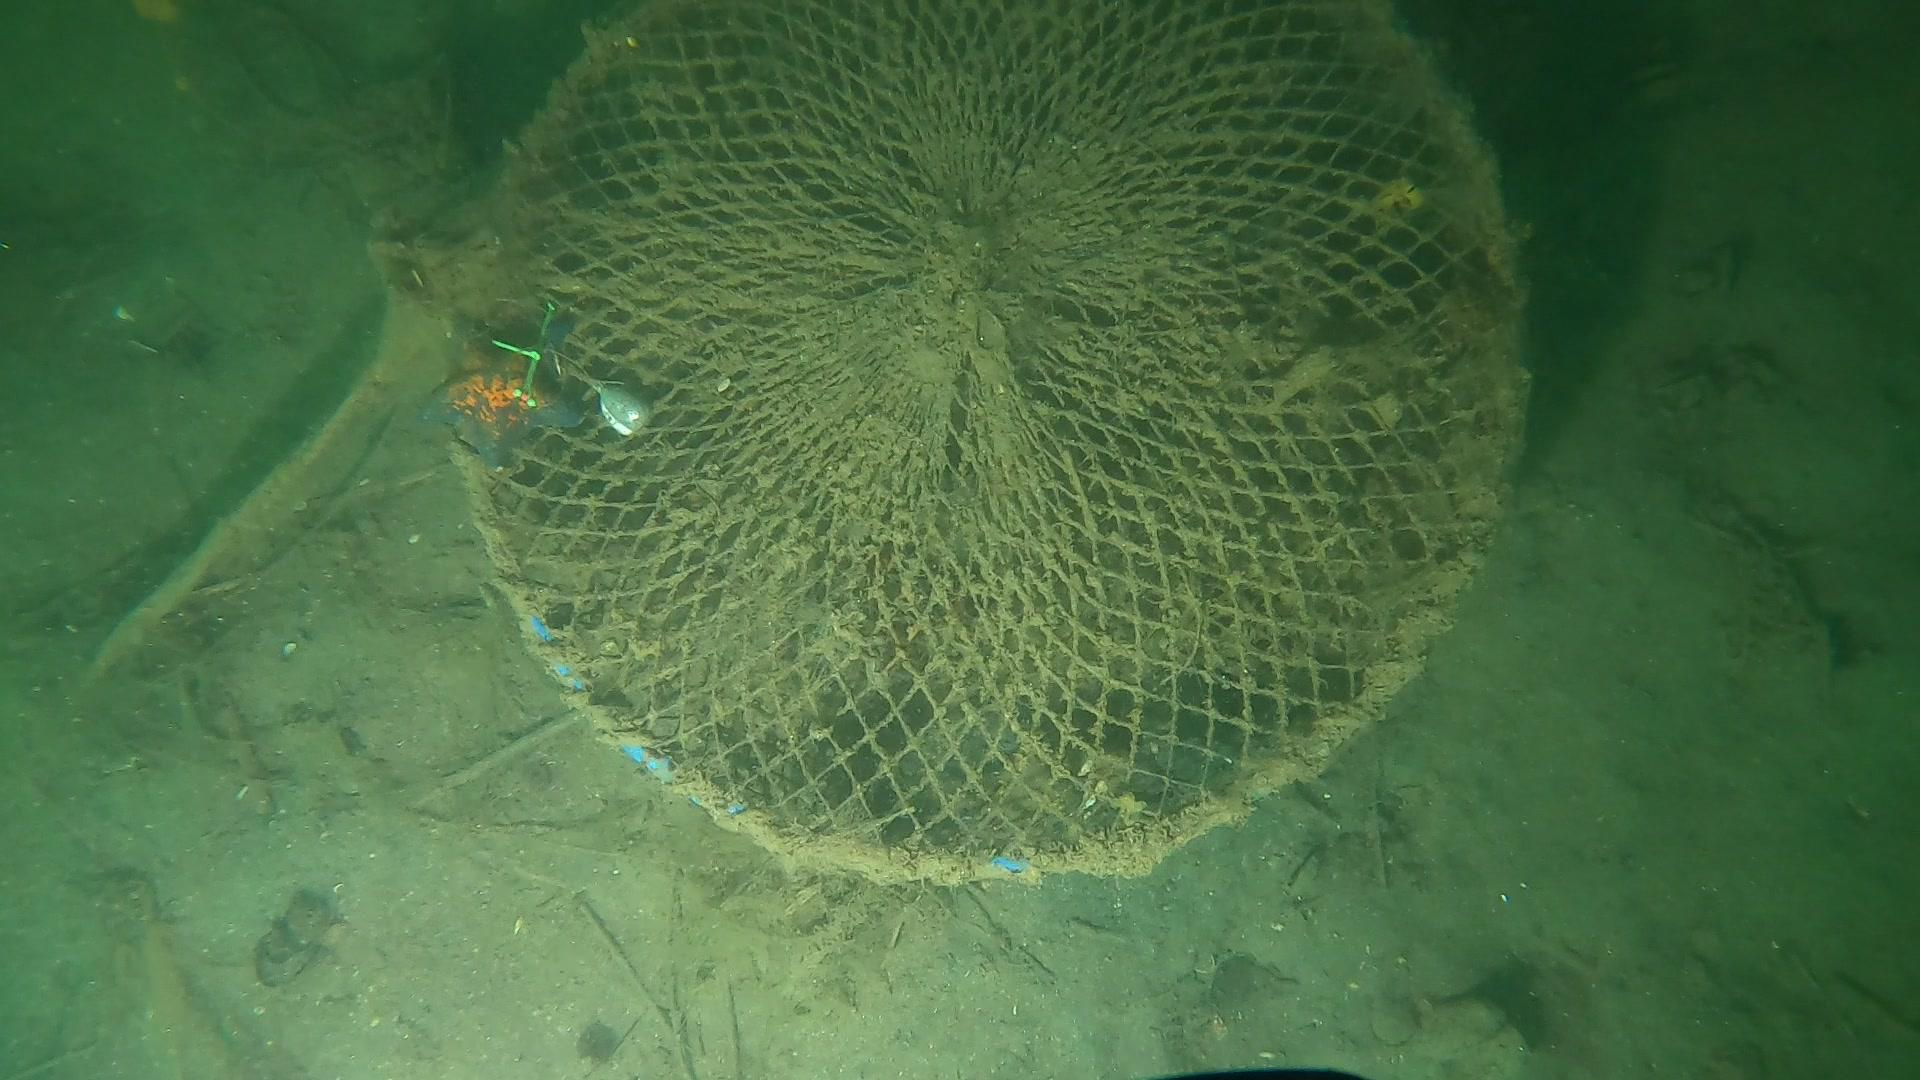circular fish trap: (429, 0, 1540, 893)
